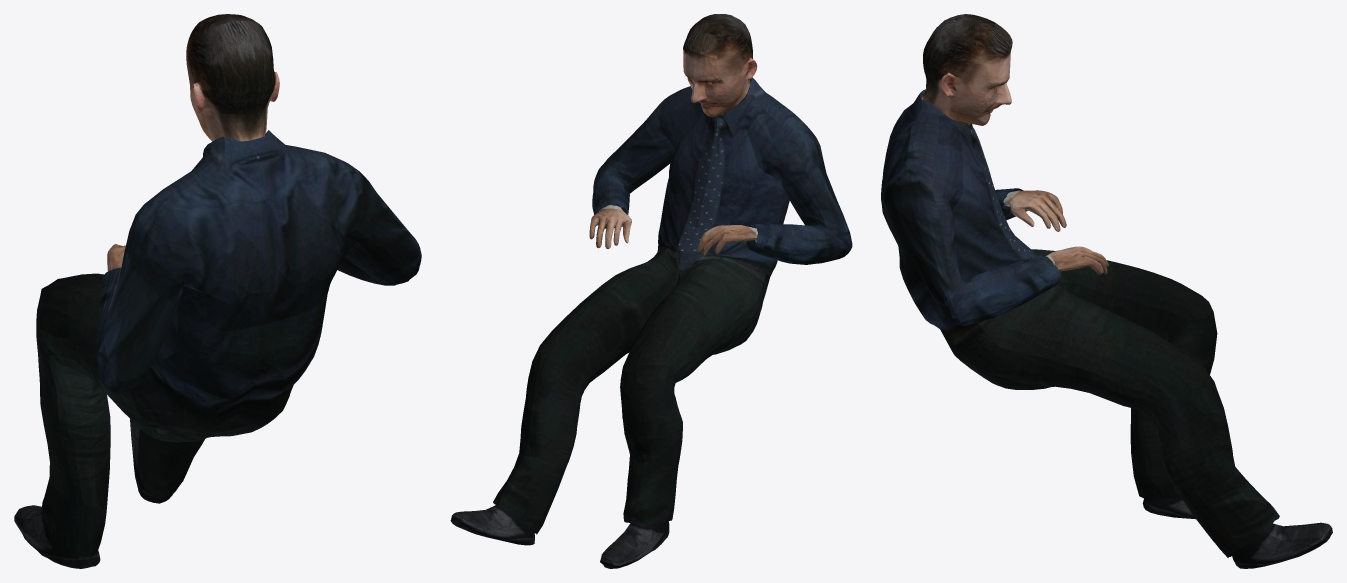
Rendered from a_man_sitting.glb.
3 views of the same model, side by side, from view 1: azimuth 30°, elevation 25°; view 2: azimuth 150°, elevation 25°; view 3: azimuth 270°, elevation 25° (orthographic). The views are drawn at different scales.
Parts seen in each view (by area): view 1: Object_5; view 2: Object_5; view 3: Object_5.
Part boxes in pixels (x1,y1,x2,y2): Object_5: (14, 14, 421, 568); Object_5: (450, 14, 852, 568); Object_5: (881, 14, 1332, 568).
Bounding box in the file's own units: 1.4 × 2.5 × 2.01.
Materials: 1 (1 with a texture image).
